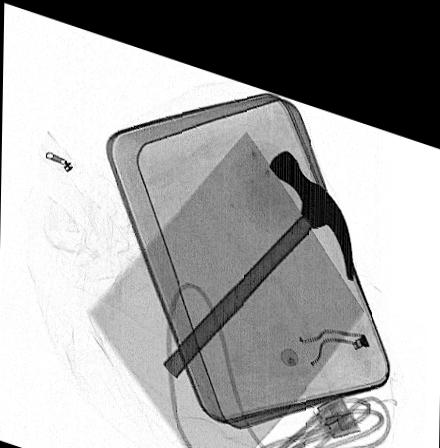Hammer: (161, 130, 355, 367)
